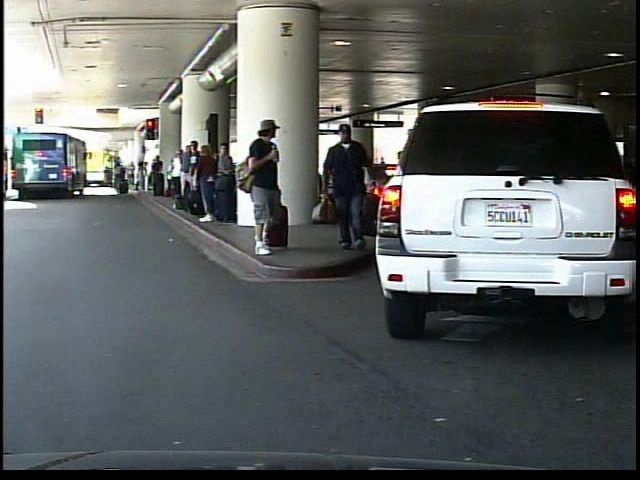person: (324, 121, 382, 253), (244, 118, 295, 256)
